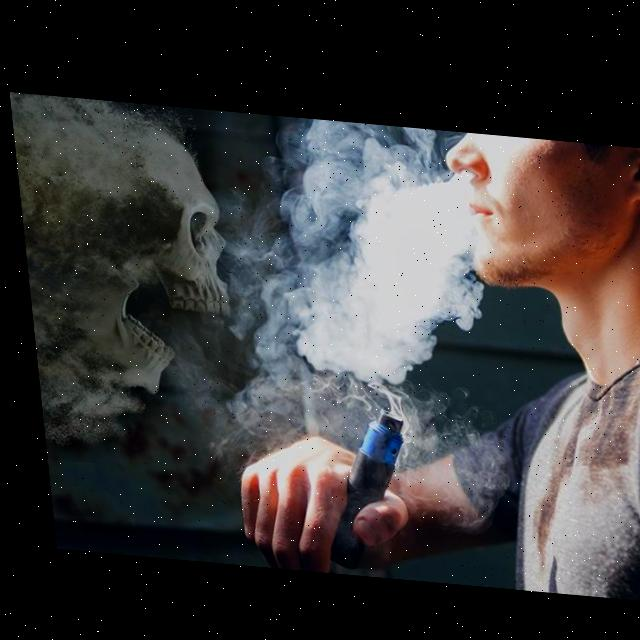vape: (308, 397, 411, 564)
